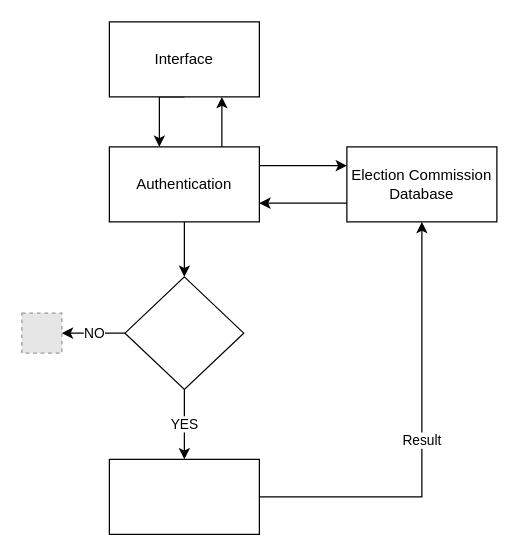
Some shapes in this 519 by 556 pixel diagram are drawn without their labels. Grey dashed boxes stand in for pictures. The shapes that lost their labels are listed below. From the top down, each one's box as (x1, y1, x2, y2) in pixels, then its label:
(124, 276, 244, 389): Authenticated
(108, 458, 259, 534): Vote
